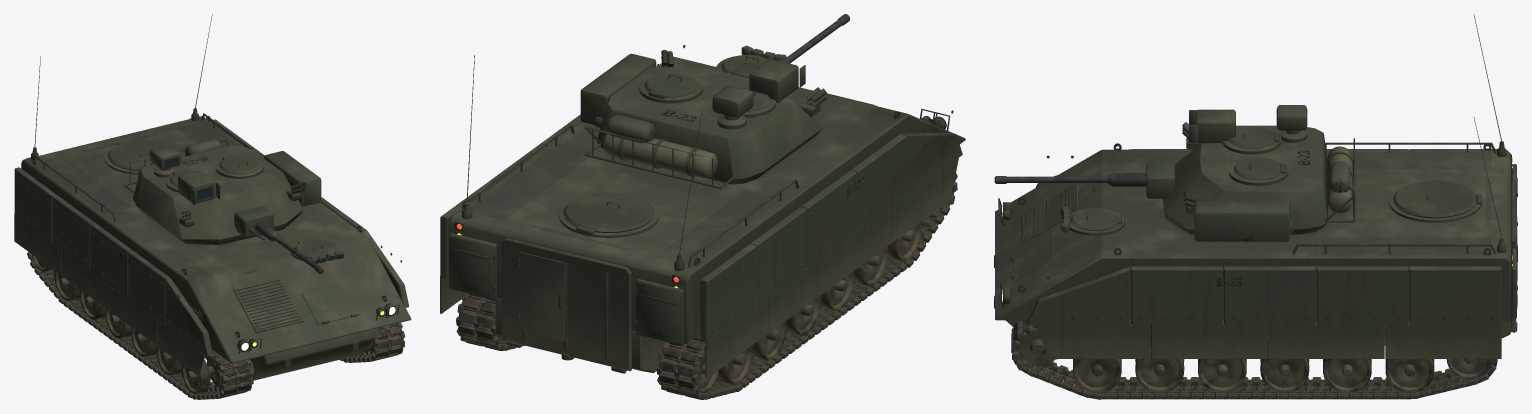
The model's file is m2a3_bradley.glb.
The picture shows the model from 3 angles, left to right: view 1: azimuth 30°, elevation 25°; view 2: azimuth 150°, elevation 25°; view 3: azimuth 270°, elevation 25°; orthographic projection. The views are drawn at different scales.
Visible parts, largest first — view 1: Hull_Armour, Side_Armour_Right, Turret_Shell, Hull_Front_Fittings, Track_Right, Turret_Fittings, Gun_Mesh, TOW_Launcher_Box, Track_Left, Troop_Hatch_Lid, Side_Armour_Left, Hull_Roof_Fittings (+11 smaller); view 2: Hull_Armour, Side_Armour_Right, Turret_Shell, Ramp_Panel, Track_Right, Hull_Rear_Fittings, Turret_Stowage, Ramp_Door_Panel, Turret_Fittings, Troop_Hatch_Lid, TOW_Launcher_Box, Hull_Roof_Fittings (+13 smaller); view 3: Side_Armour_Left, Hull_Armour, Turret_Shell, Track_Left, TOW_Launcher_Box, Hull_Front_Fittings, Troop_Hatch_Lid, Gun_Mesh, Turret_Fittings, Hull_Roof_Fittings, Turret_Stowage, Road_Wheel_Left_4_Mesh (+14 smaller).
Part boxes in pixels (x1,y1,x2,y2): Hull_Armour: (21,116,411,380); Side_Armour_Right: (14,167,212,376); Turret_Shell: (133,145,303,244); Hull_Front_Fittings: (189,250,386,367); Track_Right: (27,252,253,399); Turret_Fittings: (123,139,306,227); Gun_Mesh: (234,206,323,273); TOW_Launcher_Box: (264,151,321,206); Track_Left: (339,322,405,362); Troop_Hatch_Lid: (107,139,167,170); Side_Armour_Left: (211,119,408,307); Hull_Roof_Fittings: (31,108,361,274); Hull_Armour: (449,56,965,372); Side_Armour_Right: (700,110,962,378); Turret_Shell: (597,67,822,184); Ramp_Panel: (501,238,631,373); Track_Right: (656,173,957,399); Hull_Rear_Fittings: (449,233,683,360); Turret_Stowage: (603,115,718,178); Ramp_Door_Panel: (517,252,564,340); Turret_Fittings: (584,50,826,188); Troop_Hatch_Lid: (563,192,654,234); TOW_Launcher_Box: (580,53,656,127); Hull_Roof_Fittings: (462,111,899,270); Side_Armour_Left: (1026,266,1501,358); Hull_Armour: (995,149,1511,345); Turret_Shell: (1163,125,1327,234); Track_Left: (1011,320,1497,399); TOW_Launcher_Box: (1194,201,1293,241); Hull_Front_Fittings: (994,183,1078,308); Troop_Hatch_Lid: (1393,180,1482,218); Gun_Mesh: (994,161,1175,198); Turret_Fittings: (1182,109,1355,222); Hull_Roof_Fittings: (1113,141,1506,255); Turret_Stowage: (1326,146,1353,213); Road_Wheel_Left_4_Mesh: (1260,340,1309,392).
Size of the model in its own units: 3.6 by 3.88 by 6.55.
Materials: 8 (4 with a texture image).
